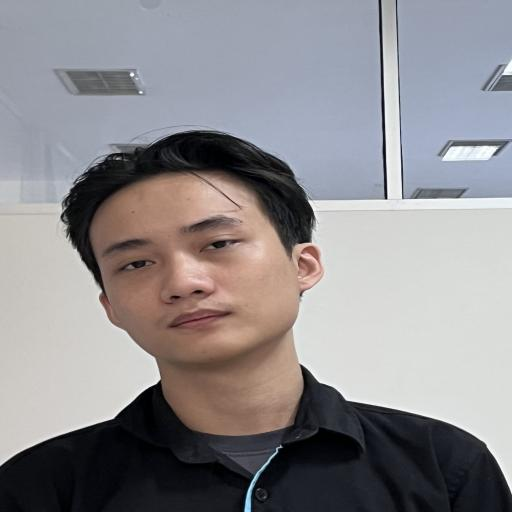wajah: (0, 94, 396, 442)
